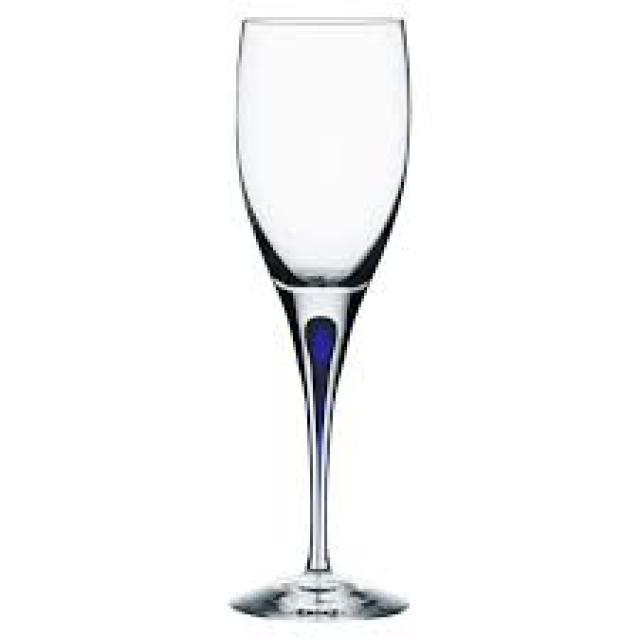glass: (225, 15, 407, 615)
